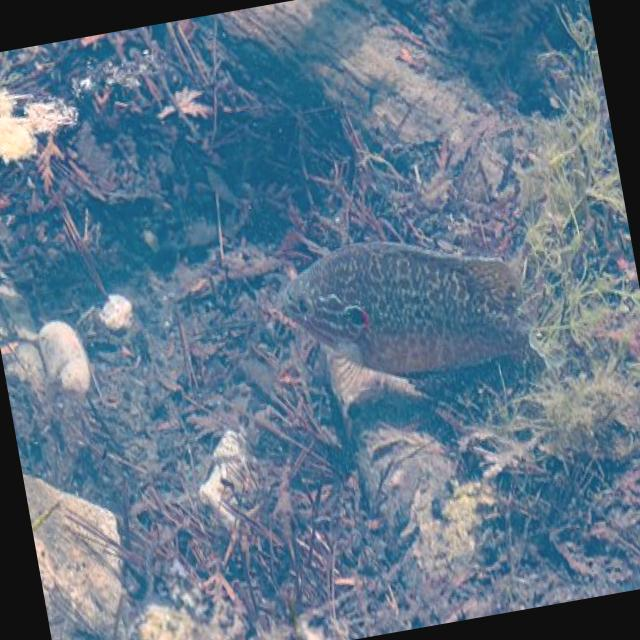Gunes Levregi: (272, 208, 570, 408)
